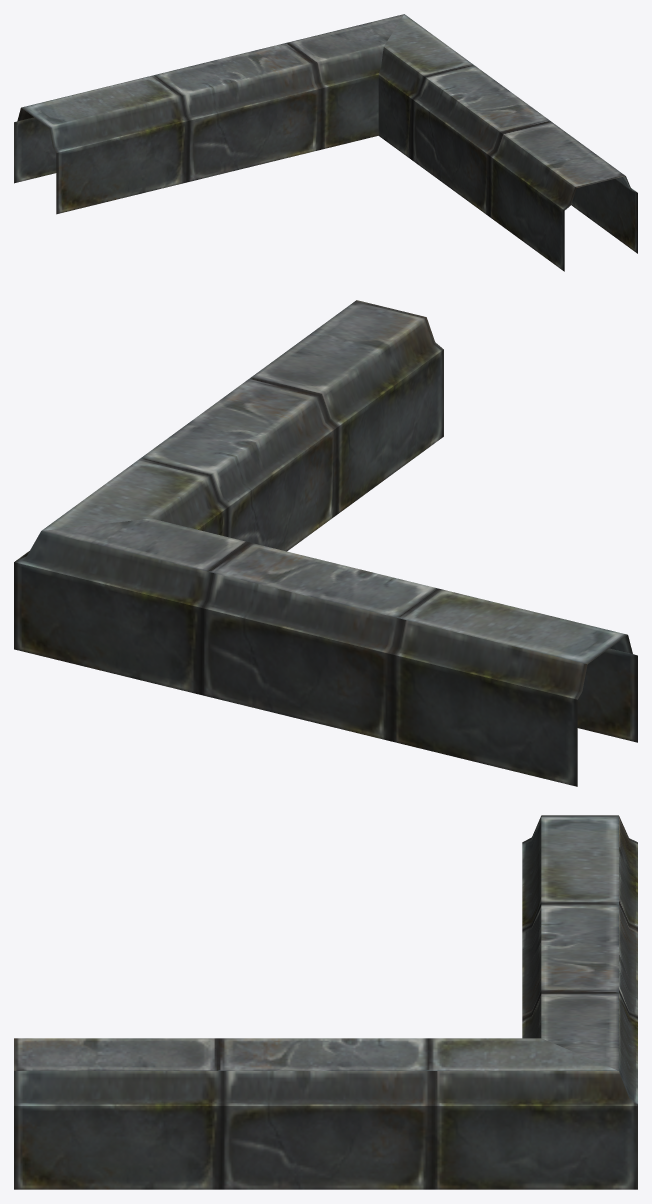
File: F_fushou010.fbx
3 views of the same model, one above another, from view 1: azimuth 30°, elevation 25°; view 2: azimuth 150°, elevation 25°; view 3: azimuth 270°, elevation 25° (orthographic). The views are drawn at different scales.
Visible parts, largest first — view 1: F_fushou010; view 2: F_fushou010; view 3: F_fushou010.
Boxes of the visible parts, x1,y1,x2,y2 form: F_fushou010: [14, 14, 637, 271]; F_fushou010: [14, 300, 637, 786]; F_fushou010: [14, 815, 637, 1189].
Bounding box in the file's own units: 156 × 30.56 × 156.
